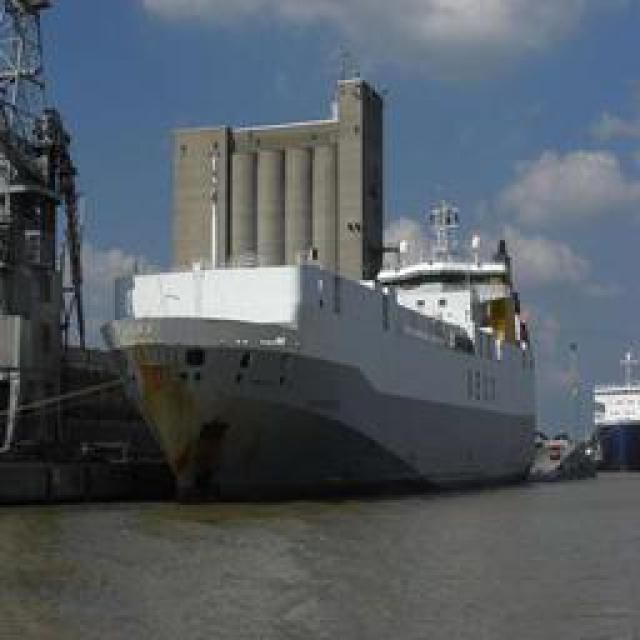Ship: (99, 230, 544, 495)
